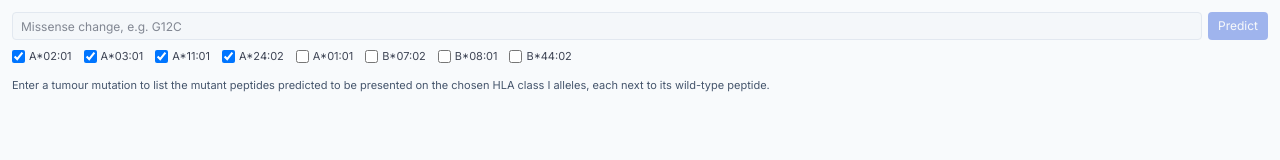
Test: NeoantigenPanel › shows the backend's reason for a wrong residue
The image size is (1280, 160).
Type "A12C" into the field labelled "Missense change" at (607, 26), box [12,12,1202,40]
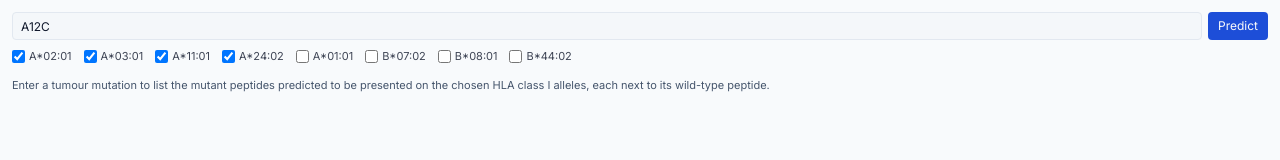
Click the button "Predict" at (1238, 26), box [1208,12,1268,40]
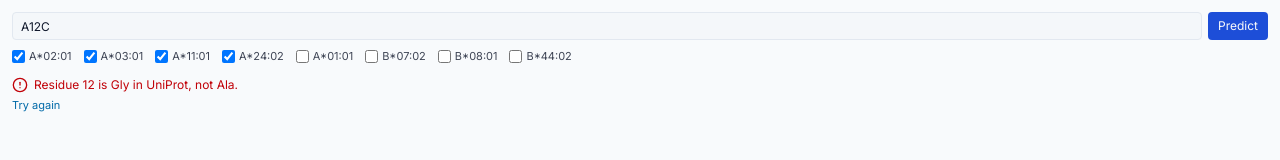
Expected: the message shows "Residue 12 is Gly in UniProt", [34,76,238,92]
